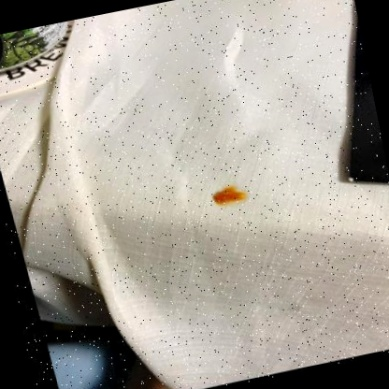kimchi: (209, 179, 254, 211)
